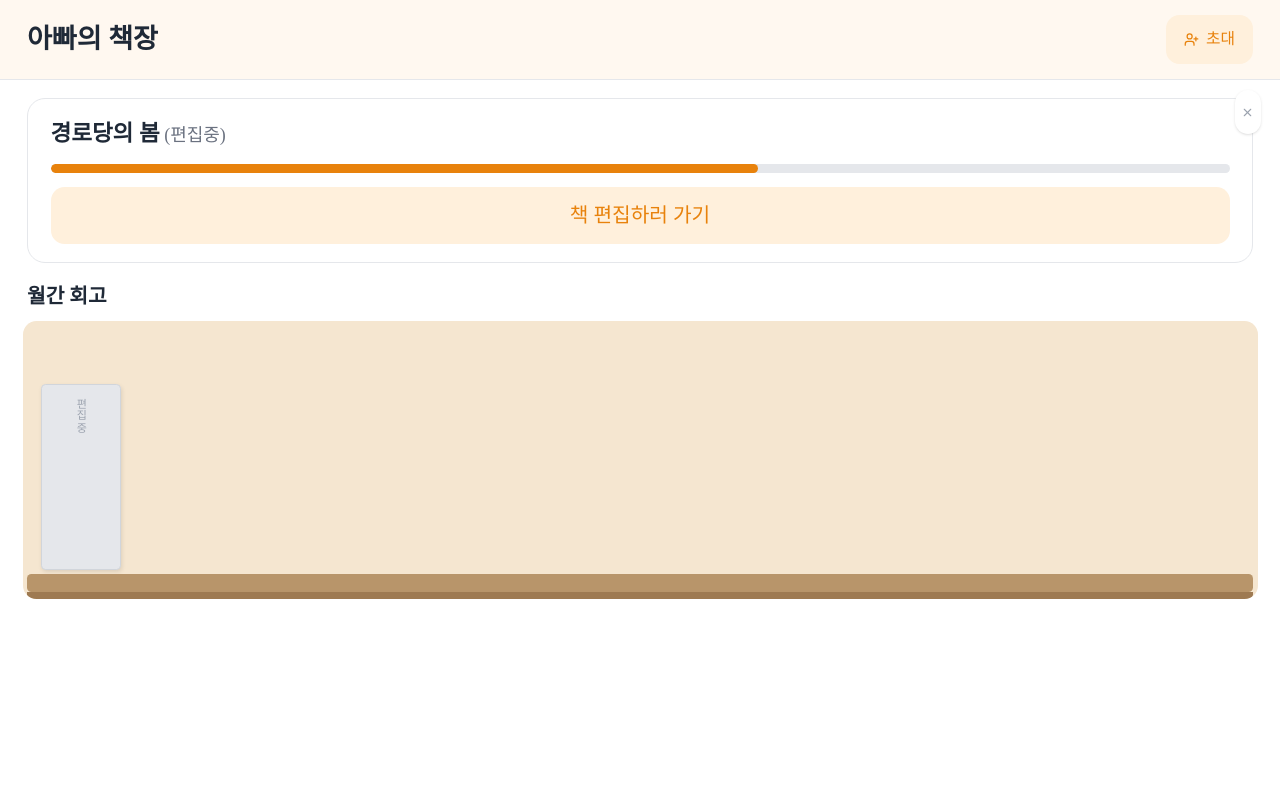
Test case: FamilyBookshelfPage — 편집중인 책 박스 X 버튼 › X 버튼 클릭 시 편집중인 책 박스가 사라진다
The width and height of the screenshot is (1280, 800).
Expected: the text "경로당의 봄" is shown, top-left (50, 121), bottom-right (160, 146)
Click the button named "닫기".
click(1248, 112)  # box top-left (1234, 90), bottom-right (1261, 134)
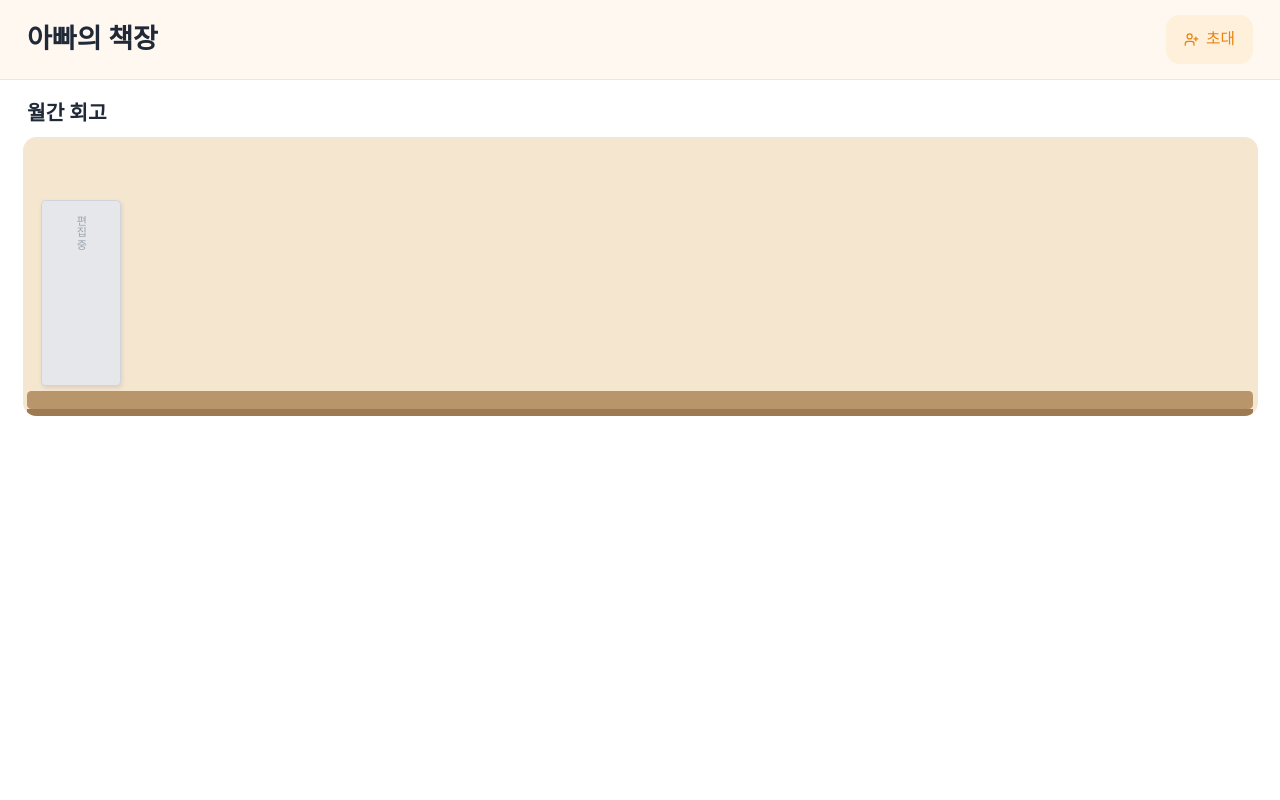
Expected: the text "경로당의 봄" is gone
Expected: the text "(편집중)" is gone
